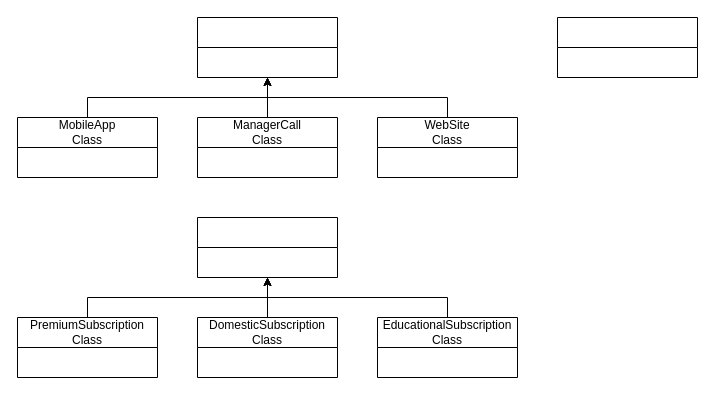
The diagram is 715 pixels wide and 395 high, and some of its shapes have lost their labels. Each missing label, with the box of its shape:
Program Class: (556, 16, 698, 78)
Subscription Abstract Class: (196, 216, 338, 278)
SubscriptionCreator Abstract Class: (196, 16, 338, 78)
